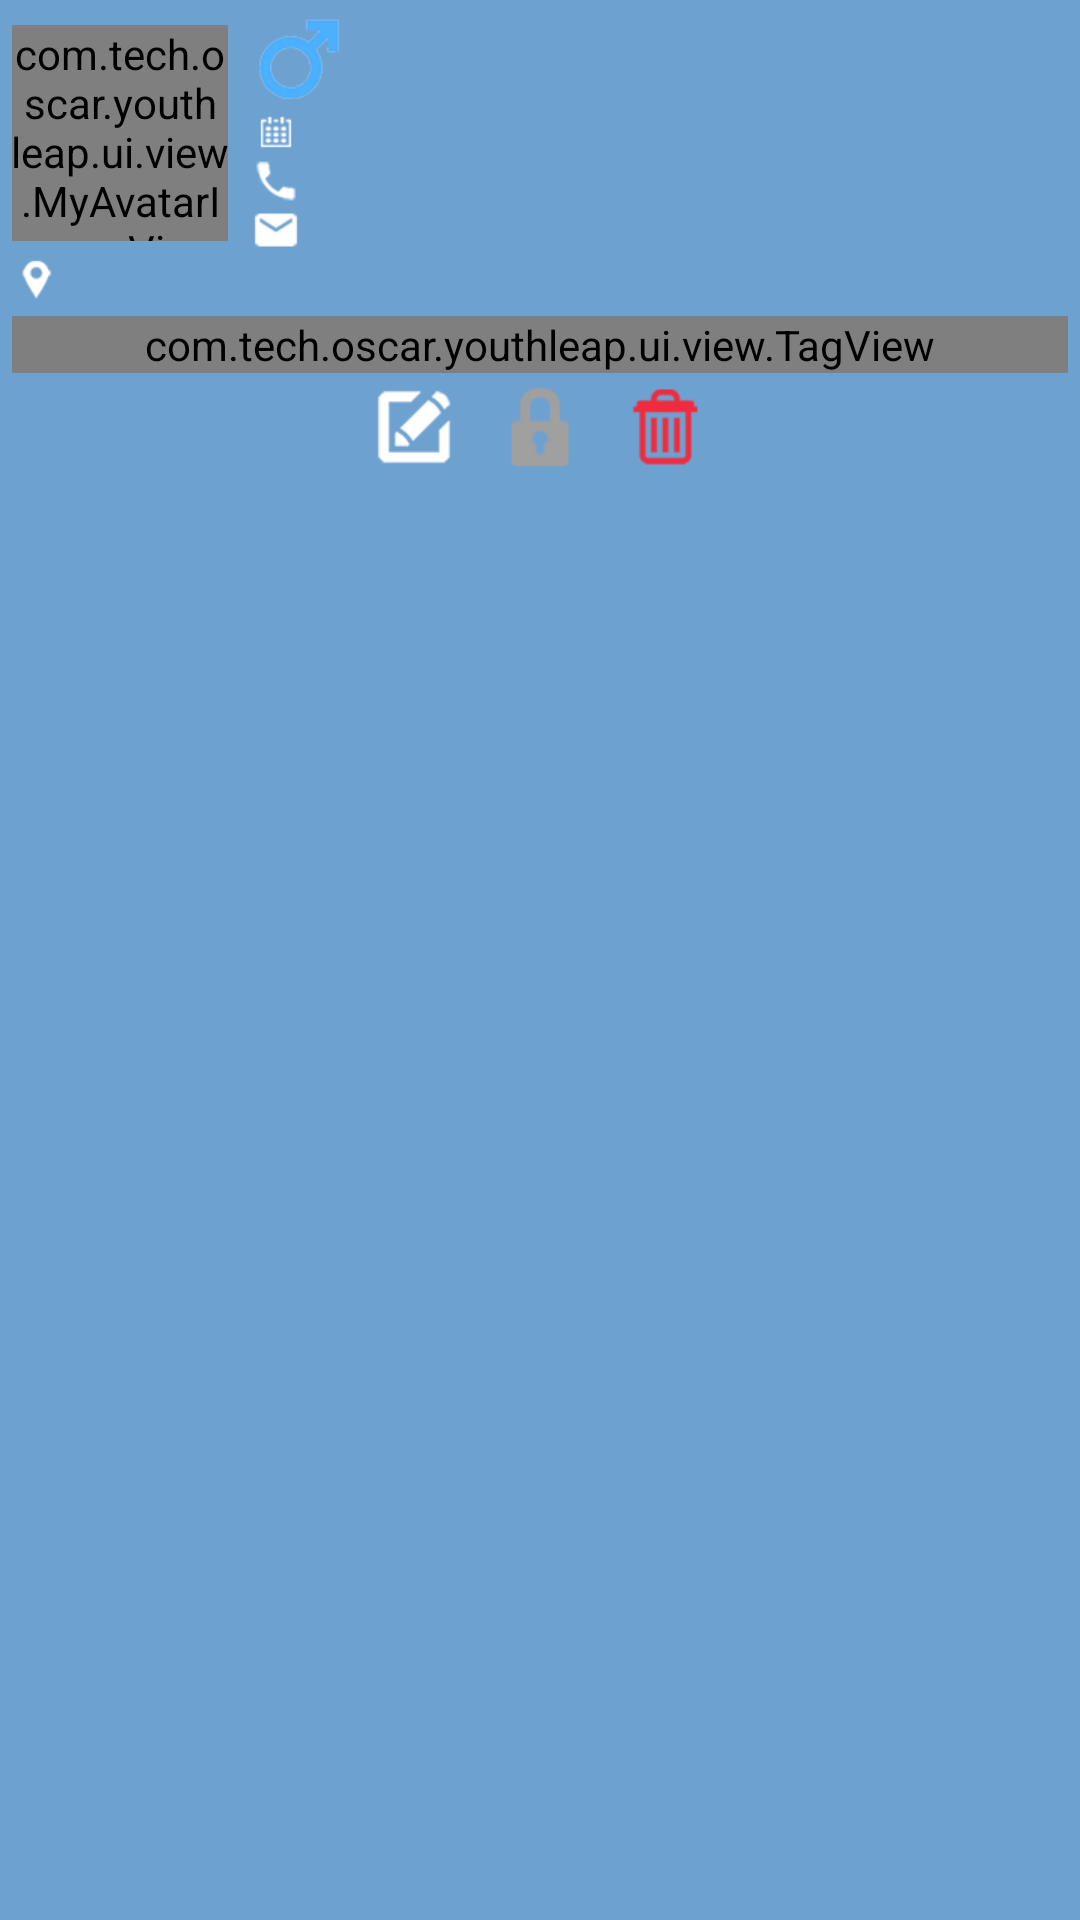

Screen size 1080 x 1920. Icon name, then its center in pixels as (x=x, y=y):
delete: (x=665, y=427)
edit: (x=414, y=427)
lock: (x=540, y=427)
